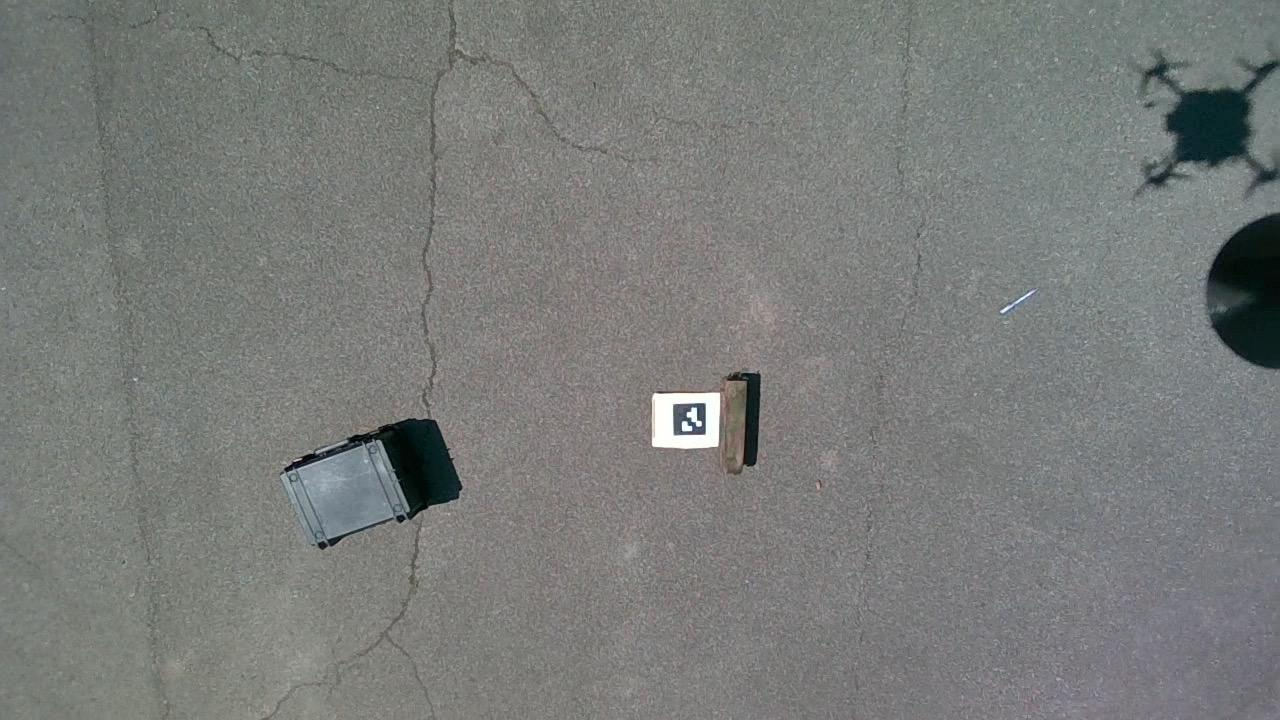probes: (998, 285, 1040, 316)
rako: (278, 426, 427, 548)
